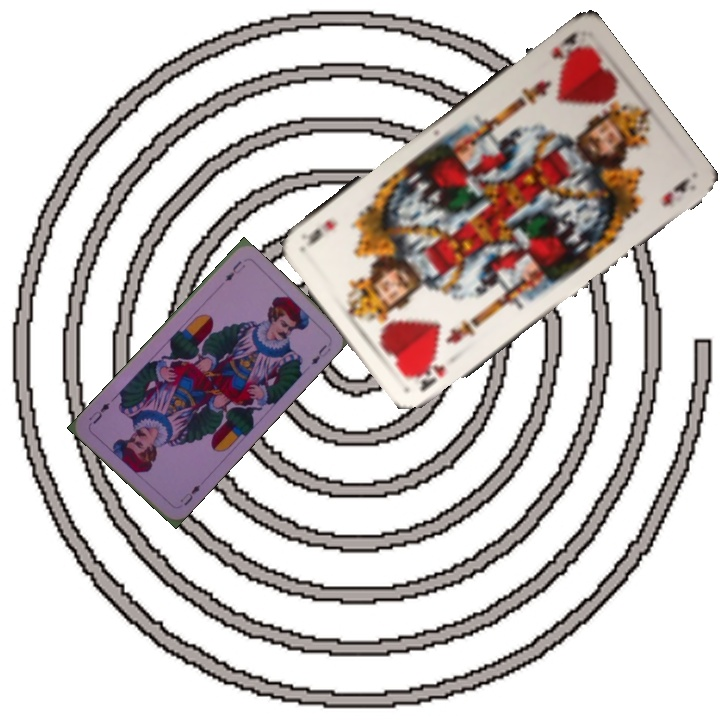EU: (221, 256, 248, 284), (176, 481, 203, 508)
HK: (411, 360, 448, 395), (547, 28, 583, 63)
